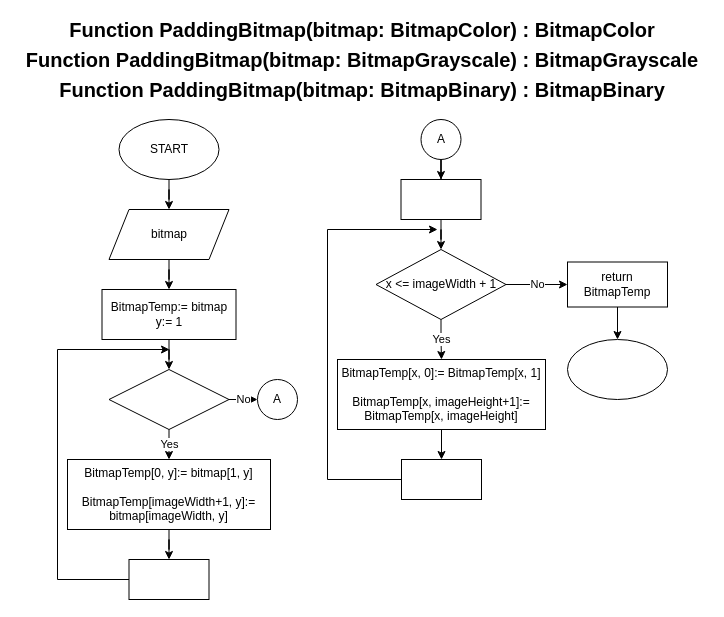
Image size: 724x617. Some labels were removed from this diagram. Each missing label, with the centre of its shape:
END: point (617, 369)
x:= 0: point (440, 199)
x:= x + 1: point (441, 479)
y <= imageHeight: point (168, 399)
y:= y + 1: point (168, 579)
